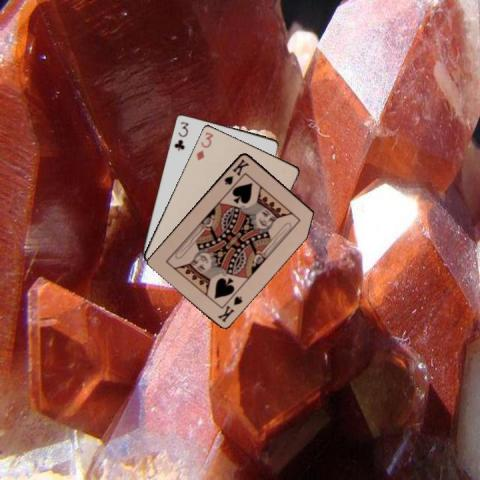3c: (171, 118, 189, 152)
3d: (193, 129, 215, 161)
Ks: (221, 156, 251, 186), (215, 293, 244, 323)
